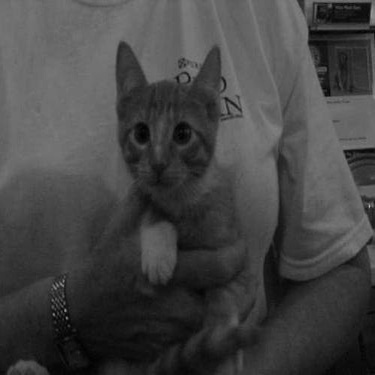cat: (84, 32, 251, 362)
